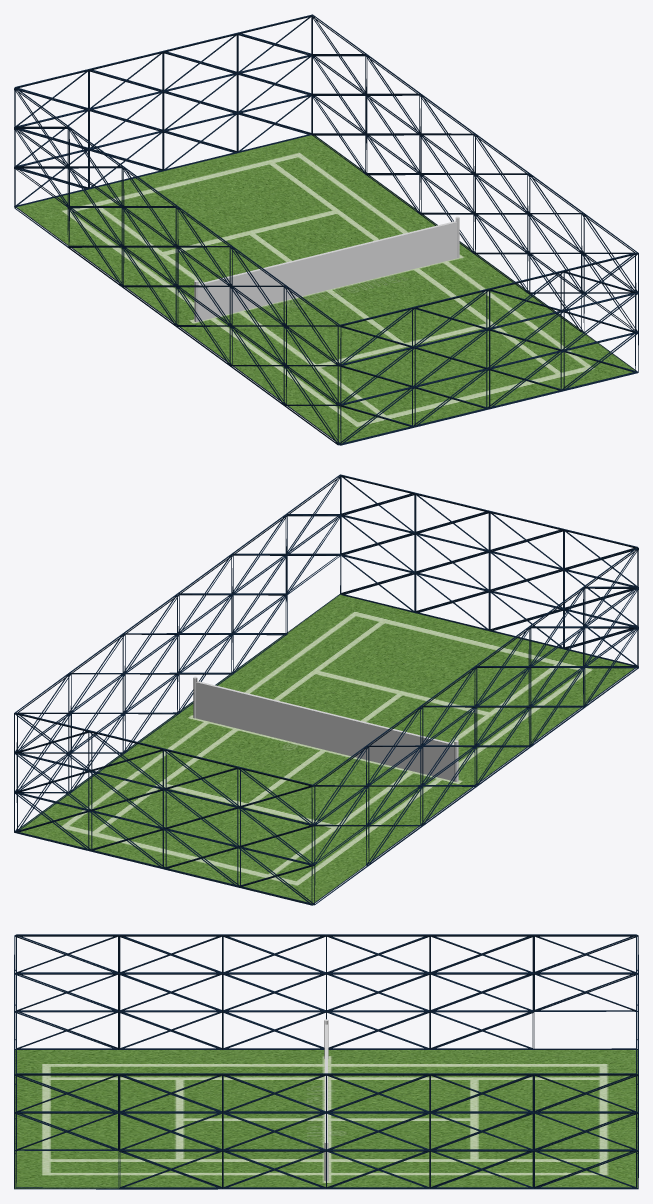
Rendered from infrastructure-building-tennis-court.fbx.
The picture shows the model from 3 angles, top to bottom: view 1: azimuth 30°, elevation 25°; view 2: azimuth 150°, elevation 25°; view 3: azimuth 270°, elevation 25°; orthographic projection. The views are drawn at different scales.
Visible parts, largest first — view 1: infrastructure-building-tennis-court; view 2: infrastructure-building-tennis-court; view 3: infrastructure-building-tennis-court.
Boxes of the visible parts, bbox=[...] form: infrastructure-building-tennis-court: bbox=[14, 14, 638, 445]; infrastructure-building-tennis-court: bbox=[14, 474, 638, 905]; infrastructure-building-tennis-court: bbox=[14, 934, 638, 1189].
Bounding box in the file's own units: 12.74 × 4.87 × 23.96.
